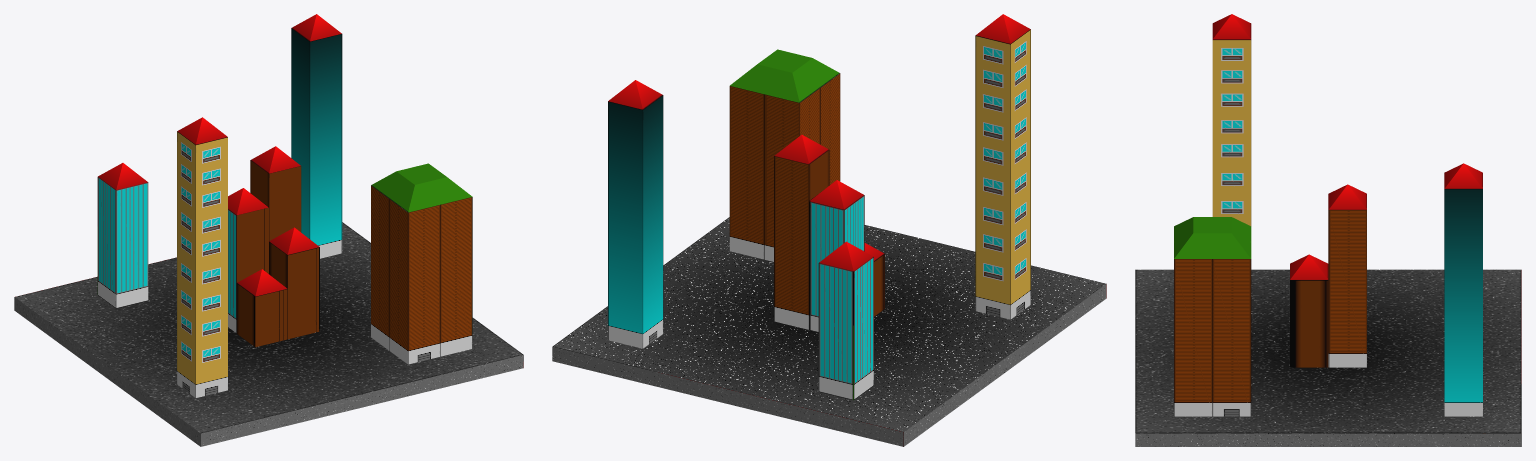
File: building1.obj
3 views of the same model, side by side, from view 1: azimuth 30°, elevation 25°; view 2: azimuth 150°, elevation 25°; view 3: azimuth 270°, elevation 25° (orthographic). The views are drawn at different scales.
Visible parts, largest first — view 1: Mesh_building1_building1_auv; view 2: Mesh_building1_building1_auv; view 3: Mesh_building1_building1_auv.
Part boxes in pixels (left/top/right/bottom): Mesh_building1_building1_auv: left=14, top=14, right=523, bottom=446; Mesh_building1_building1_auv: left=552, top=14, right=1106, bottom=446; Mesh_building1_building1_auv: left=1135, top=14, right=1521, bottom=446.
Bounding box in the file's own units: 15.9 × 13.36 × 15.9.
